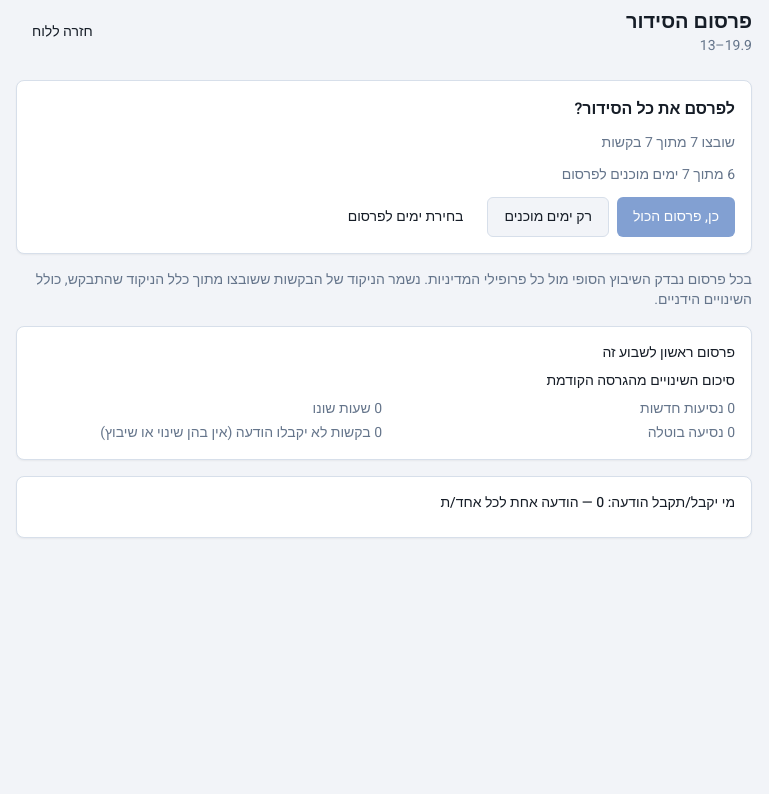
it: publication choices › refuses a day with an unanswered plan-B proposal (REQ §13.112 a) and lists the day
expect the button "כן, פרסום הכול" is disabled: met, box left=617, top=197, right=735, bottom=237
Click the button "בחירת ימים לפרסום" at (406, 217), box left=332, top=197, right=480, bottom=237
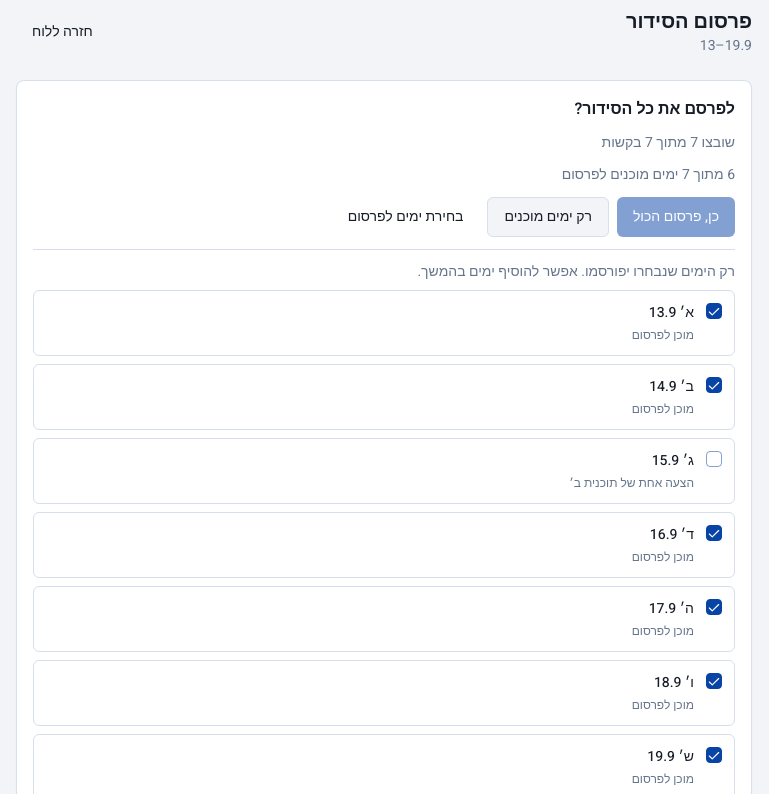
expect the text "הצעה אחת של תוכנית ב׳" is shown: met, box left=569, top=475, right=694, bottom=491
